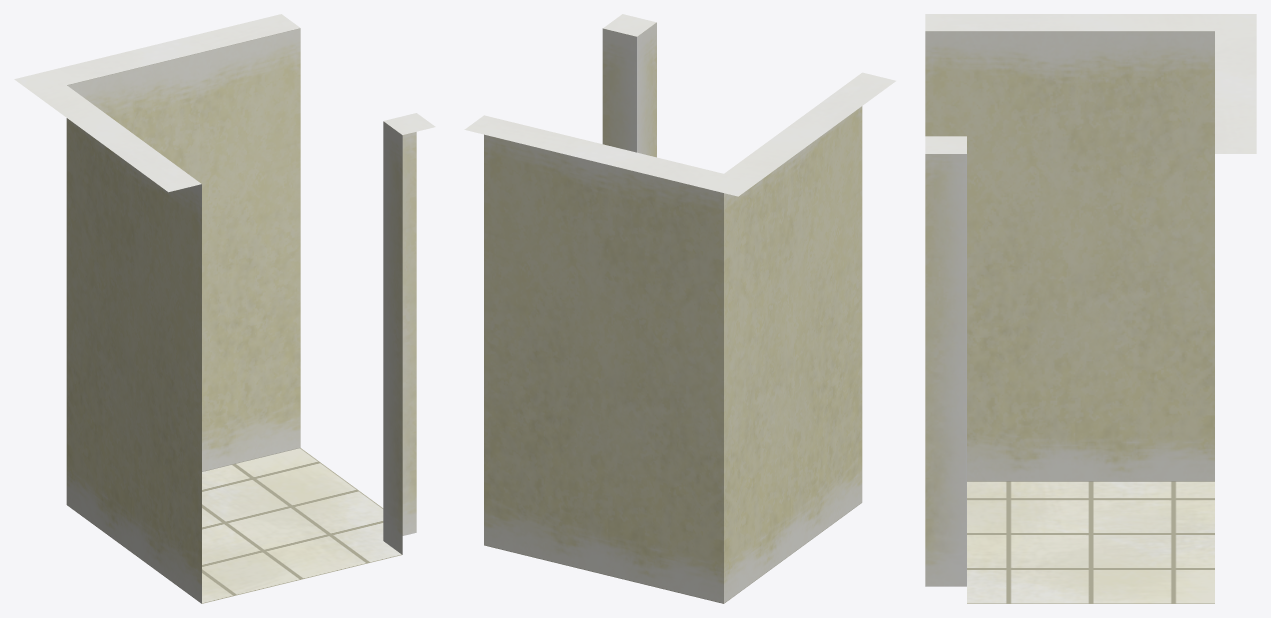
The model's file is maze_corner.FBX.
3 renders of one model, left to right at view 1: azimuth 30°, elevation 25°; view 2: azimuth 150°, elevation 25°; view 3: azimuth 270°, elevation 25°, orthographic. The views are drawn at different scales.
Visible parts, largest first — view 1: Plane01; view 2: Plane01; view 3: Plane01.
Part boxes in pixels (<box>): Plane01: <box>14,14,435,603</box>; Plane01: <box>464,14,895,603</box>; Plane01: <box>925,14,1256,603</box>.
Bounding box in the file's own units: 32 × 48 × 32.
